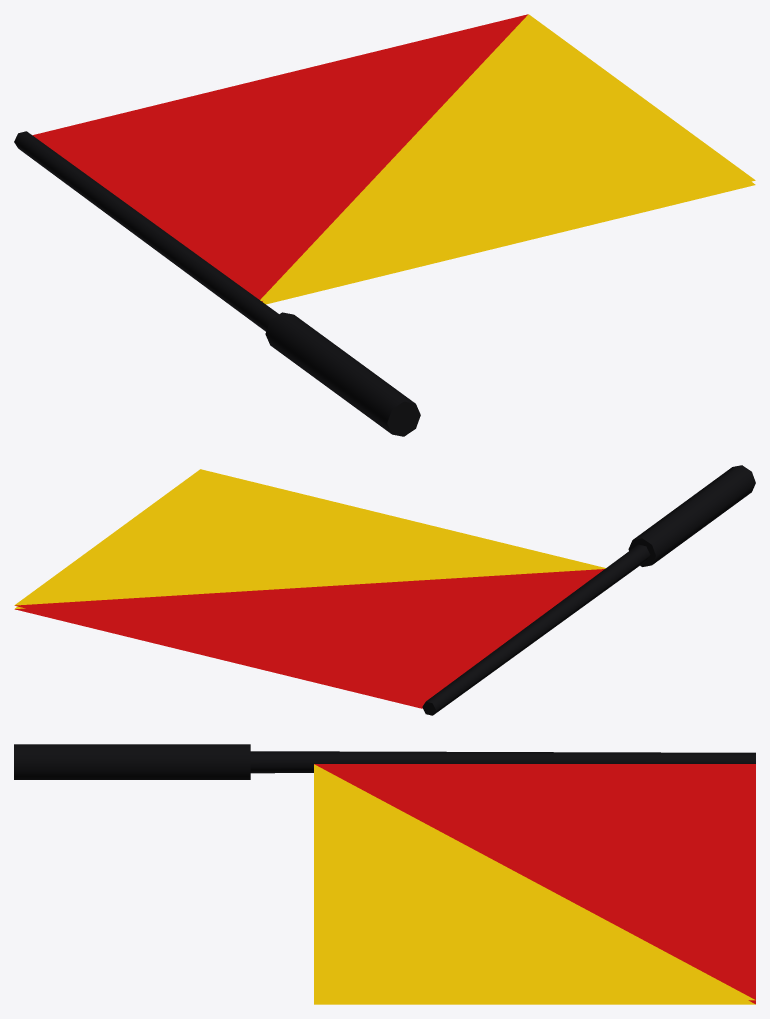
File: flag.glb
The picture shows the model from 3 angles, top to bottom: view 1: azimuth 30°, elevation 25°; view 2: azimuth 150°, elevation 25°; view 3: azimuth 270°, elevation 25°; orthographic projection. The views are drawn at different scales.
Parts seen in each view (by area): view 1: Flag; view 2: Flag; view 3: Flag.
Boxes of the visible parts, x1,y1,x2,y2 form: Flag: (14, 14, 755, 436); Flag: (14, 465, 755, 715); Flag: (14, 744, 755, 1004).
Size of the model in its own units: 0.372 by 0.024 by 0.47.
